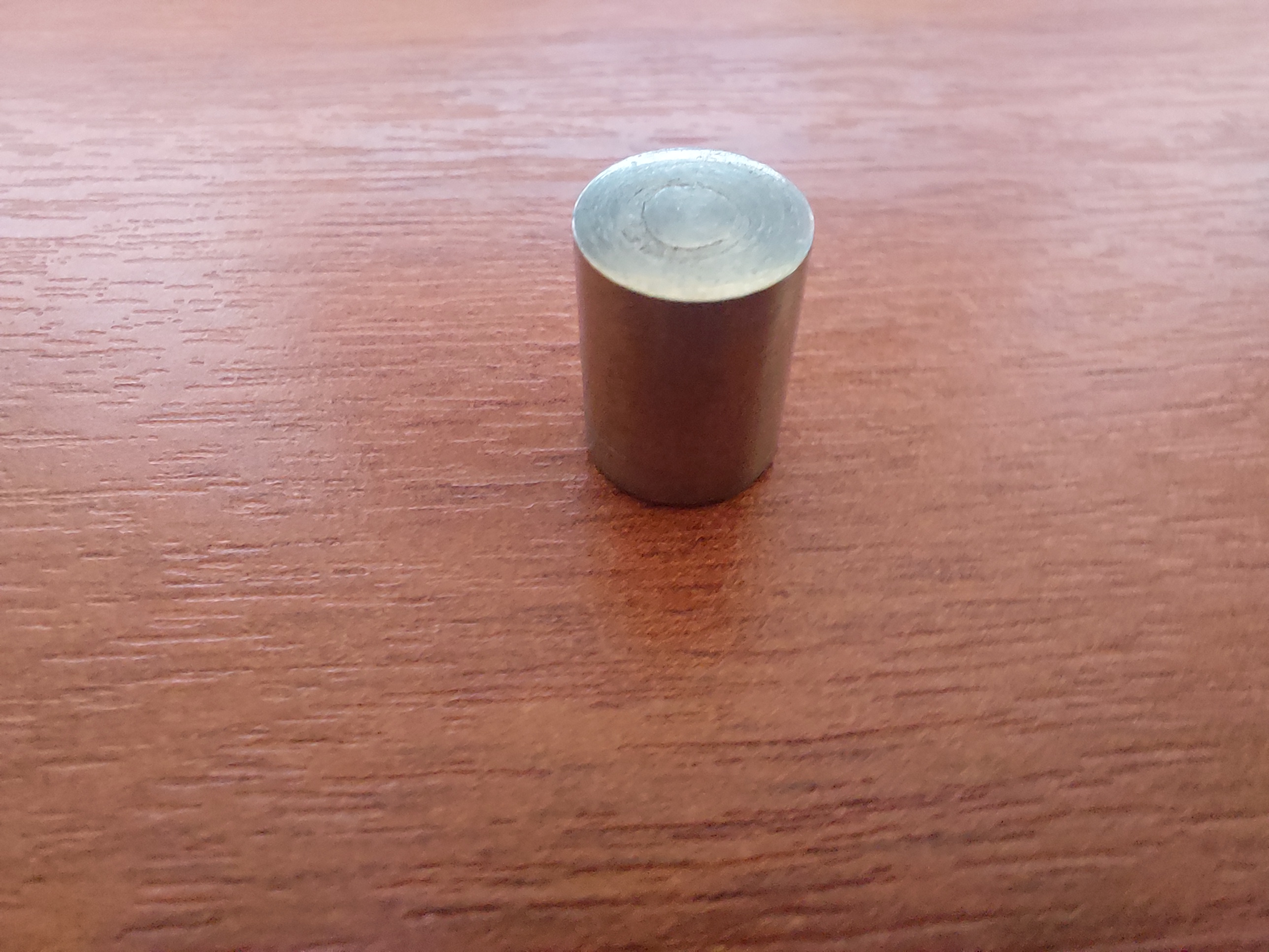tablet: (567, 143, 822, 529)
